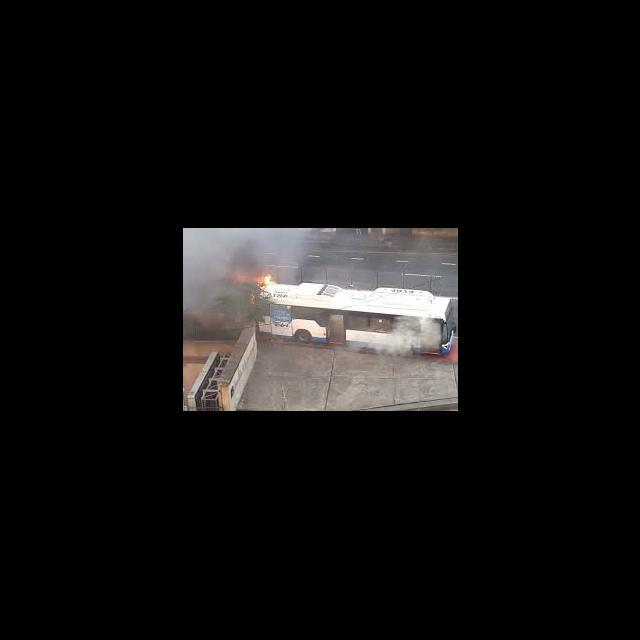Fire: (263, 274, 275, 285)
Smoke: (184, 228, 304, 268), (353, 317, 442, 359), (182, 268, 250, 318)
